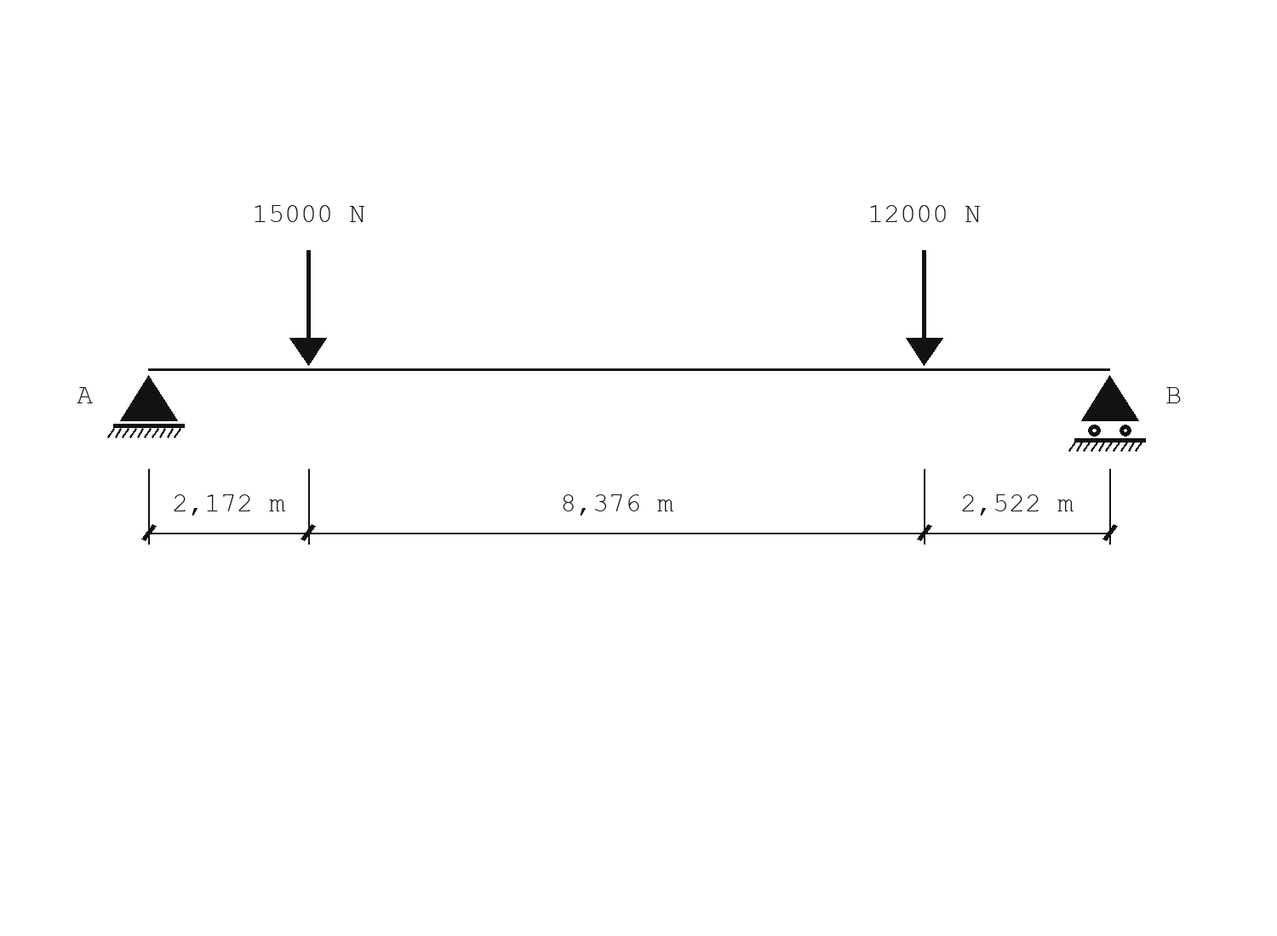pin_support: (107, 375, 185, 438)
point_load: (289, 250, 327, 366), (906, 250, 943, 366)
roller_support: (1068, 375, 1146, 452)
